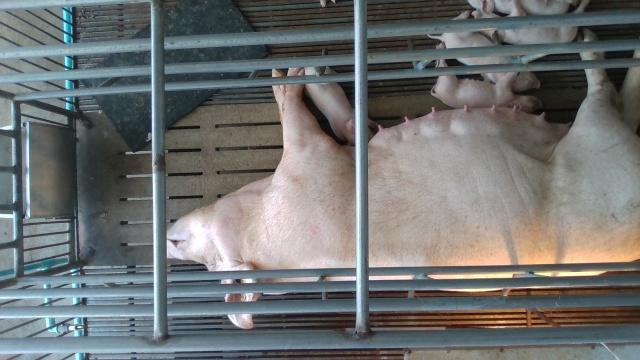piglet: (428, 11, 542, 92), (430, 45, 542, 113), (304, 65, 376, 145), (475, 1, 588, 45), (467, 0, 575, 16)
sow-sleep-lactate: (166, 26, 640, 330)
